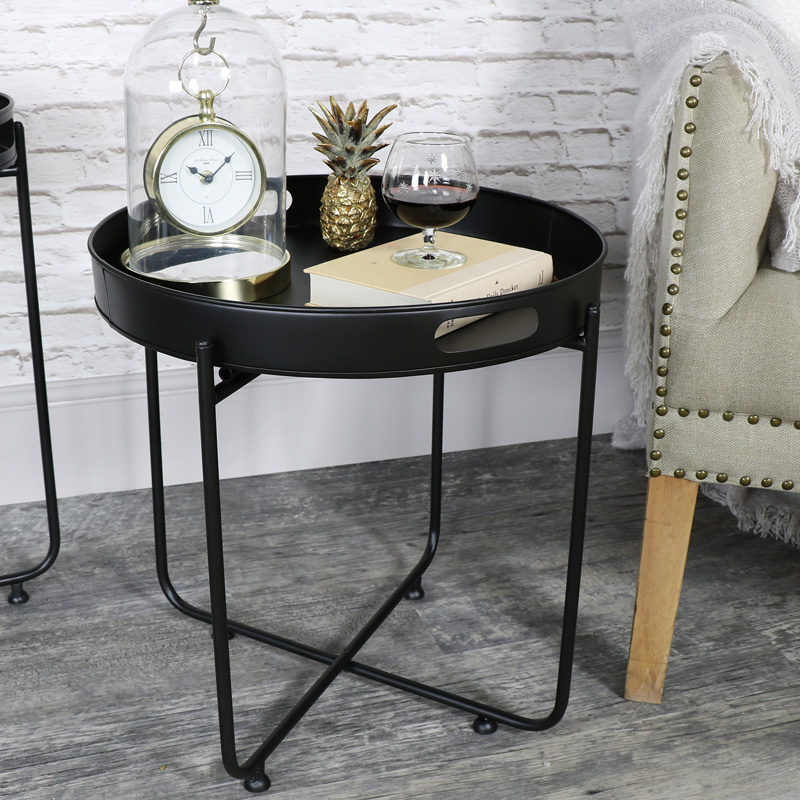table: (72, 157, 616, 800)
